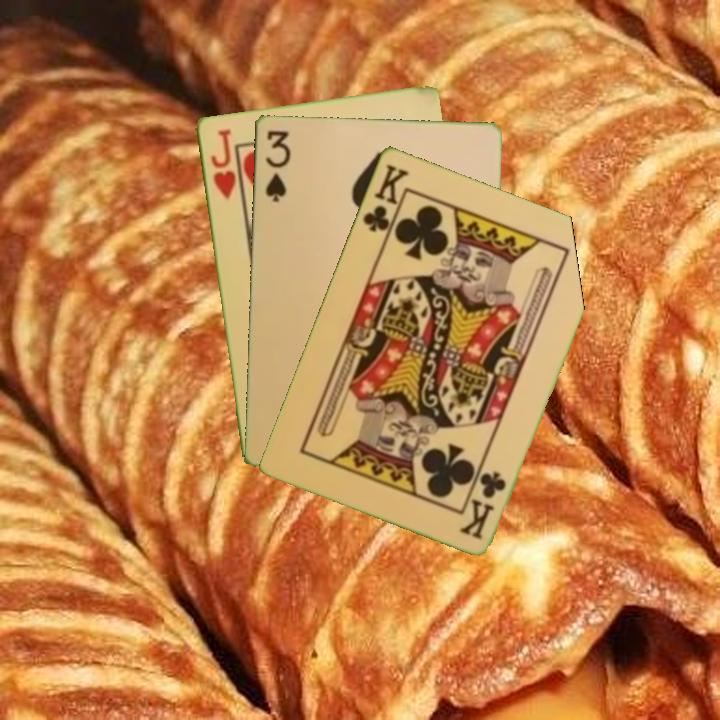3s: (261, 126, 292, 204)
Jh: (206, 125, 239, 202)
Kc: (358, 160, 412, 244), (457, 467, 509, 542)
